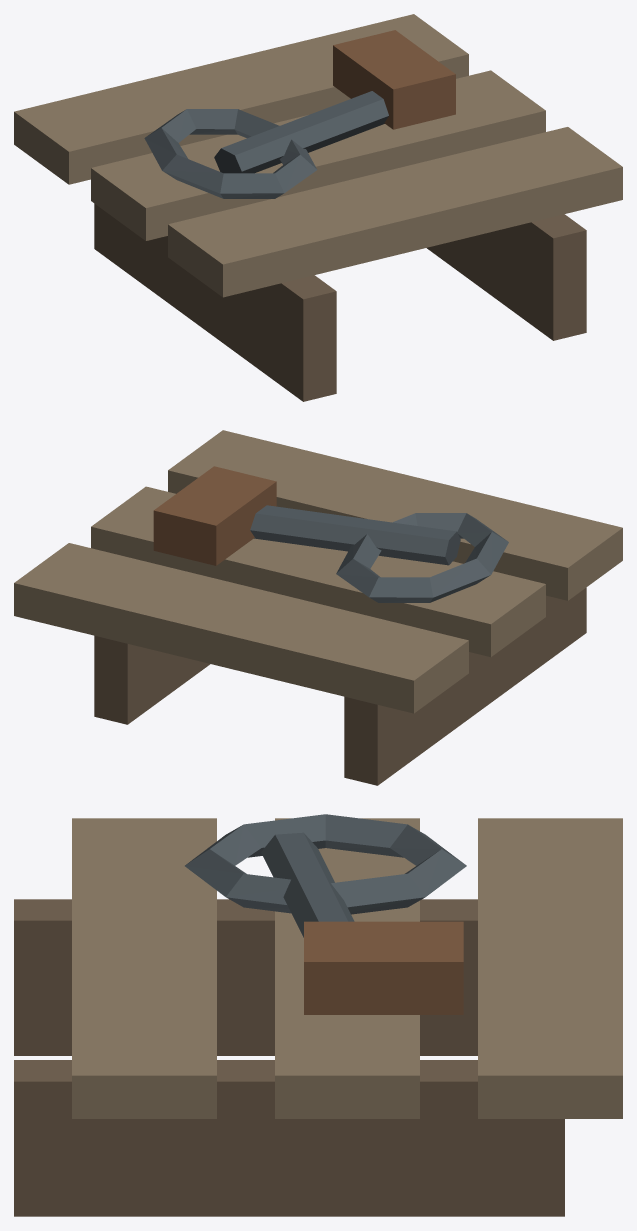
The model's file is salvage.glb.
The picture shows the model from 3 angles, top to bottom: view 1: azimuth 30°, elevation 25°; view 2: azimuth 150°, elevation 25°; view 3: azimuth 270°, elevation 25°; orthographic projection. The views are drawn at different scales.
Parts seen in each view (by area): view 1: salvage; view 2: salvage; view 3: salvage.
Boxes of the visible parts, <box> form: salvage: <box>14,14,622,401</box>; salvage: <box>14,430,622,785</box>; salvage: <box>14,814,622,1216</box>.
Size of the model in its own units: 0.96 by 0.42 by 0.96.
